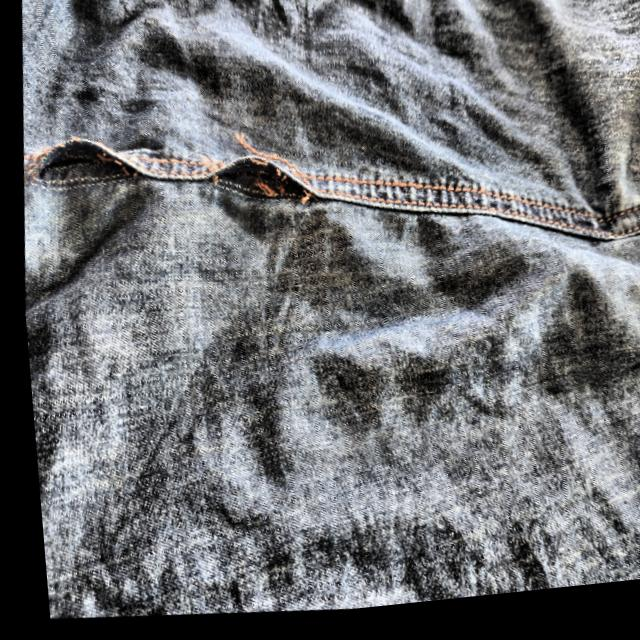seam: (198, 142, 319, 237), (20, 127, 129, 199)
